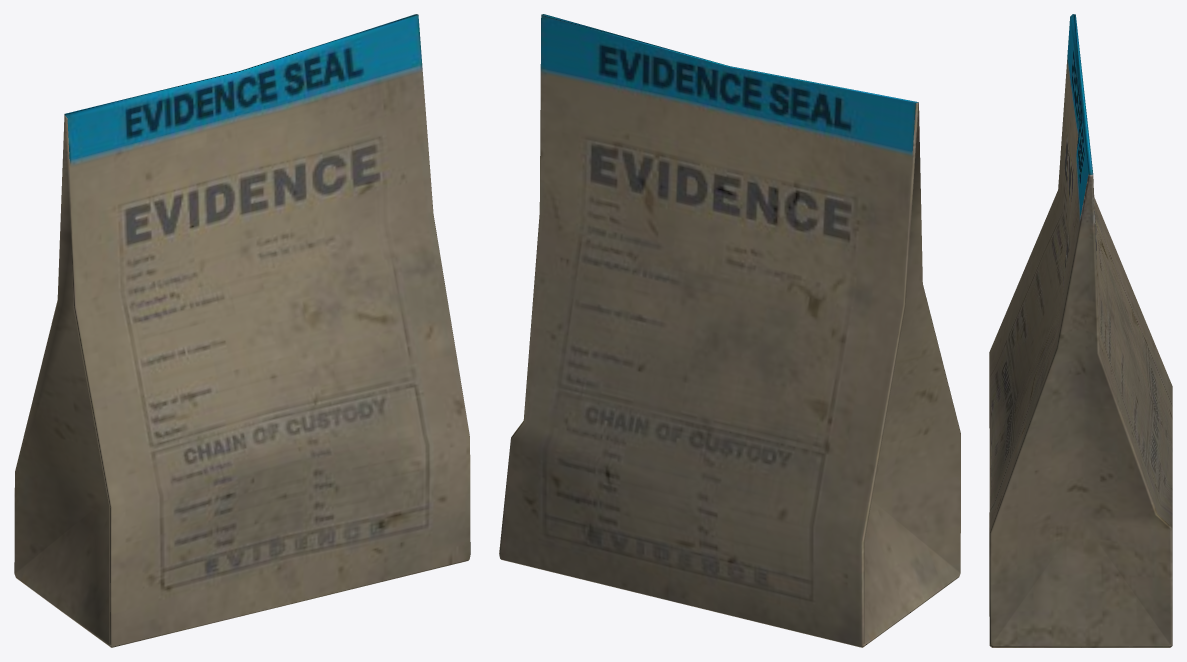
File: SM_Evidence_Bag_Big.glb
3 views of the same model, side by side, from view 1: azimuth 30°, elevation 25°; view 2: azimuth 150°, elevation 25°; view 3: azimuth 270°, elevation 25° (orthographic). The views are drawn at different scales.
Parts seen in each view (by area): view 1: SM_Evidence_Bag_Big; view 2: SM_Evidence_Bag_Big; view 3: SM_Evidence_Bag_Big.
Boxes of the visible parts, box(x1,y1,x2,y2) form: SM_Evidence_Bag_Big: box(14, 14, 470, 647); SM_Evidence_Bag_Big: box(499, 14, 960, 647); SM_Evidence_Bag_Big: box(989, 14, 1172, 647).
Size of the model in its own units: 0.2062 by 0.275 by 0.0964.
1 material, 1 textured.
